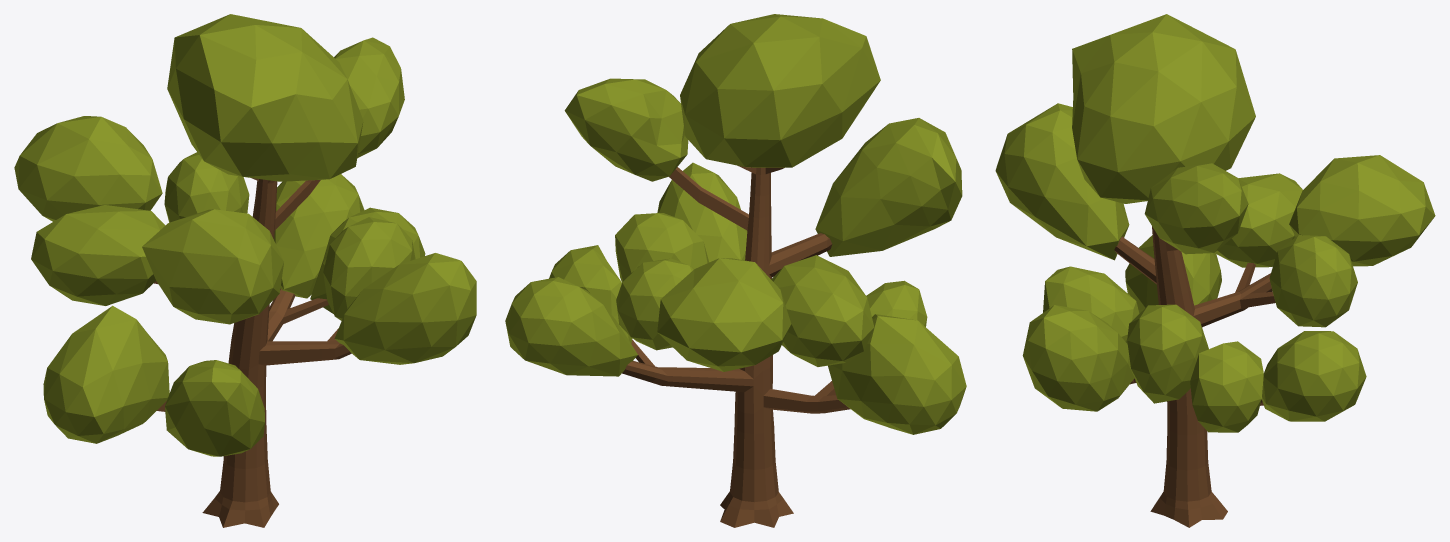
The picture shows the model from 3 angles, left to right: view 1: azimuth 30°, elevation 25°; view 2: azimuth 150°, elevation 25°; view 3: azimuth 270°, elevation 25°; orthographic projection. The views are drawn at different scales.
Parts seen in each view (by area): view 1: Icosphere.002, Cylinder.007; view 2: Icosphere.002, Cylinder.007; view 3: Icosphere.002, Cylinder.007.
Boxes of the visible parts, left/top/right/bottom form: Icosphere.002: left=14, top=14, right=476, bottom=456; Cylinder.007: left=154, top=178, right=351, bottom=527; Icosphere.002: left=505, top=14, right=966, bottom=434; Cylinder.007: left=622, top=165, right=850, bottom=527; Icosphere.002: left=995, top=14, right=1435, bottom=432; Cylinder.007: left=1114, top=226, right=1275, bottom=527.
Size of the model in its own units: 9.42 by 11.52 by 9.66.
